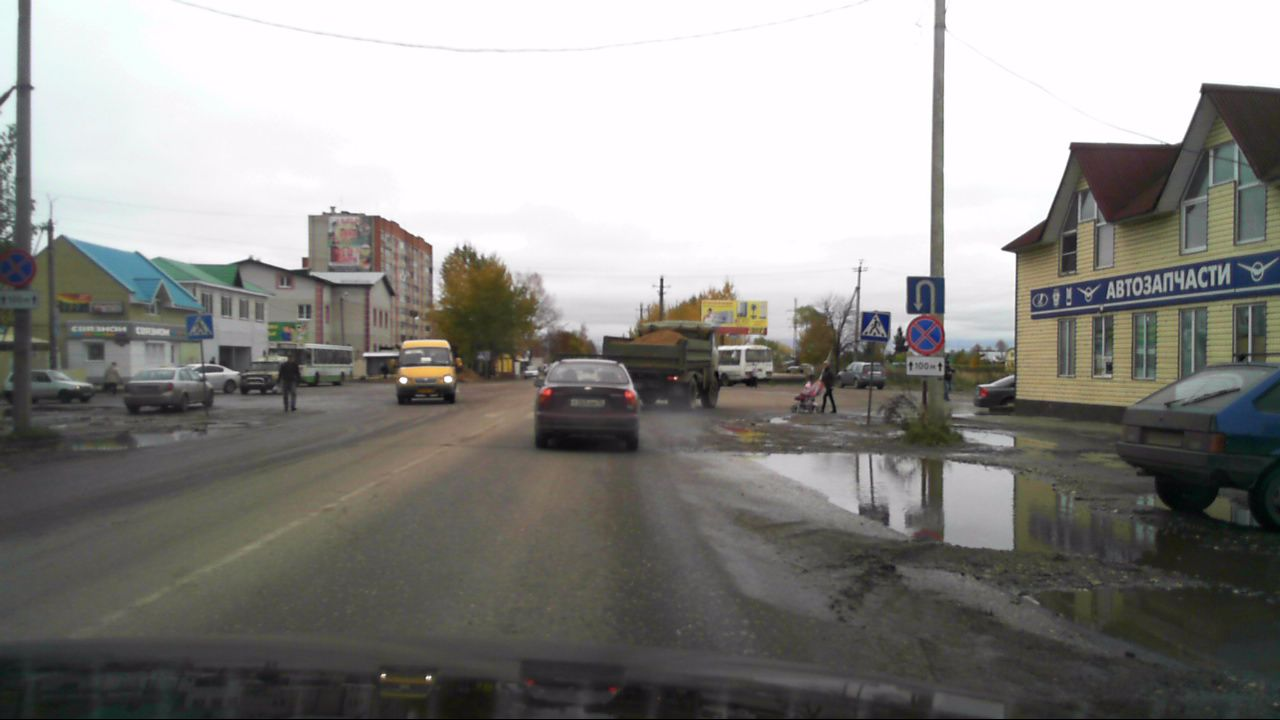No Parking: (0, 249, 35, 288)
Pedestrian Crossing: (862, 312, 889, 340), (186, 315, 213, 340)
U-turn: (907, 277, 943, 314)
